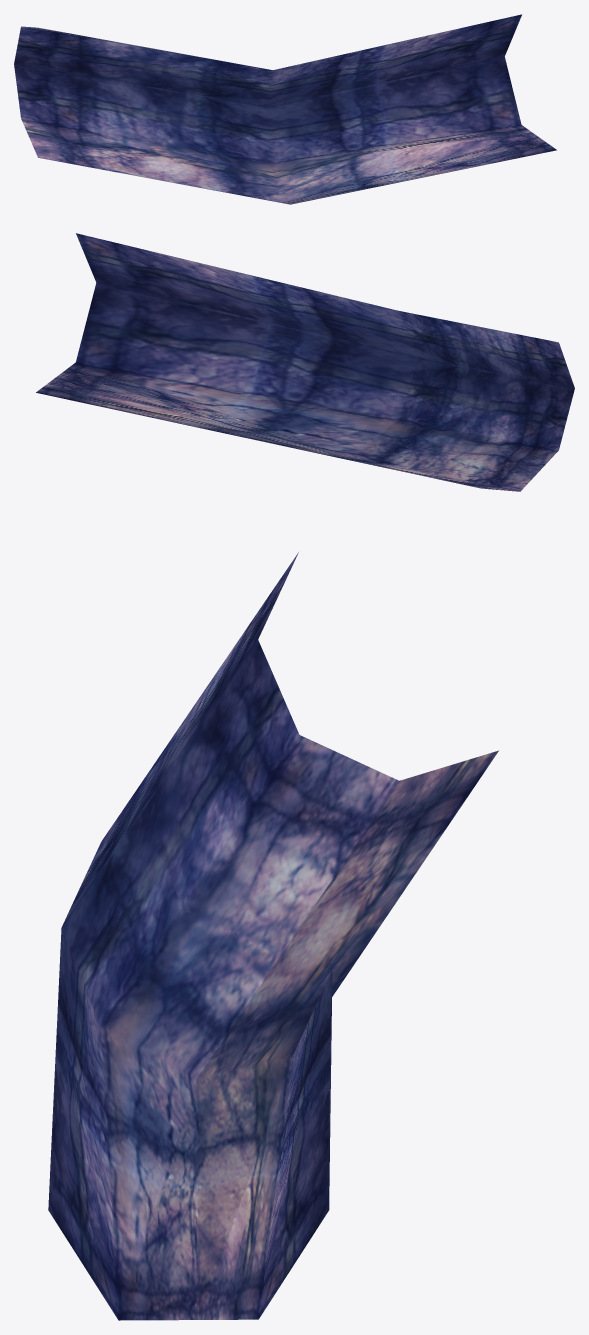
3 views of the same model, one above another, from view 1: azimuth 30°, elevation 25°; view 2: azimuth 150°, elevation 25°; view 3: azimuth 270°, elevation 25° (orthographic). The views are drawn at different scales.
Parts seen in each view (by area): view 1: 14; view 2: 14; view 3: 14.
Boxes of the visible parts, bbox=[...] form: 14: bbox=[14, 14, 556, 204]; 14: bbox=[36, 233, 574, 491]; 14: bbox=[48, 552, 498, 1320].
Bounding box in the file's own units: 13887 × 5330 × 6429.
1 material, 1 textured.
